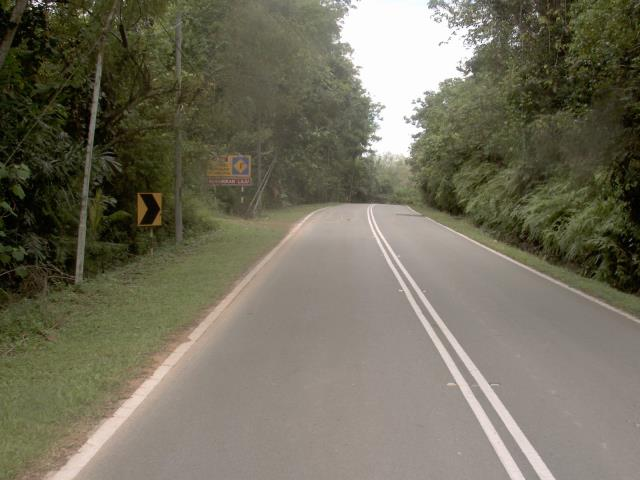traffic_sign: (131, 185, 167, 232)
